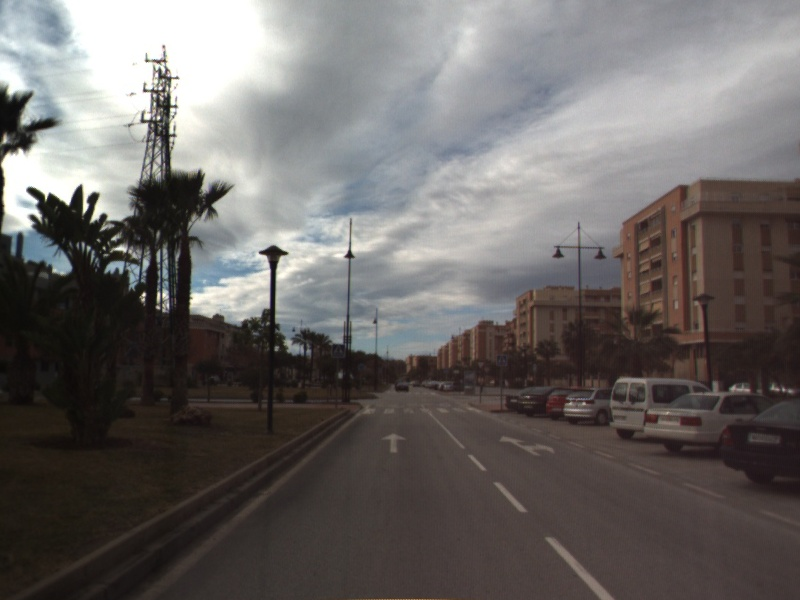STRAIGHT: (379, 431, 408, 454)
STRAIGHT_RIGHT: (497, 434, 556, 458)
